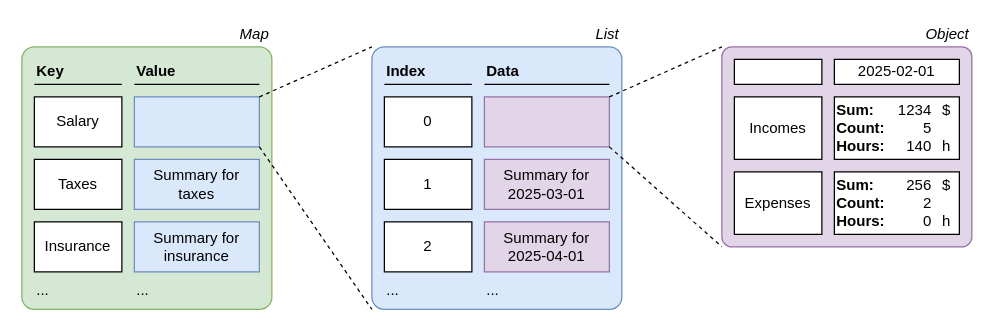
This 994x333 diagram has some shape labels left out. Here are the shapes that lost their labels. From the top down, the box of each, then its label:
(733, 58, 822, 84): Date
(133, 96, 259, 147): Summary for salary
(483, 96, 609, 147): Summary for 2025-02-01
